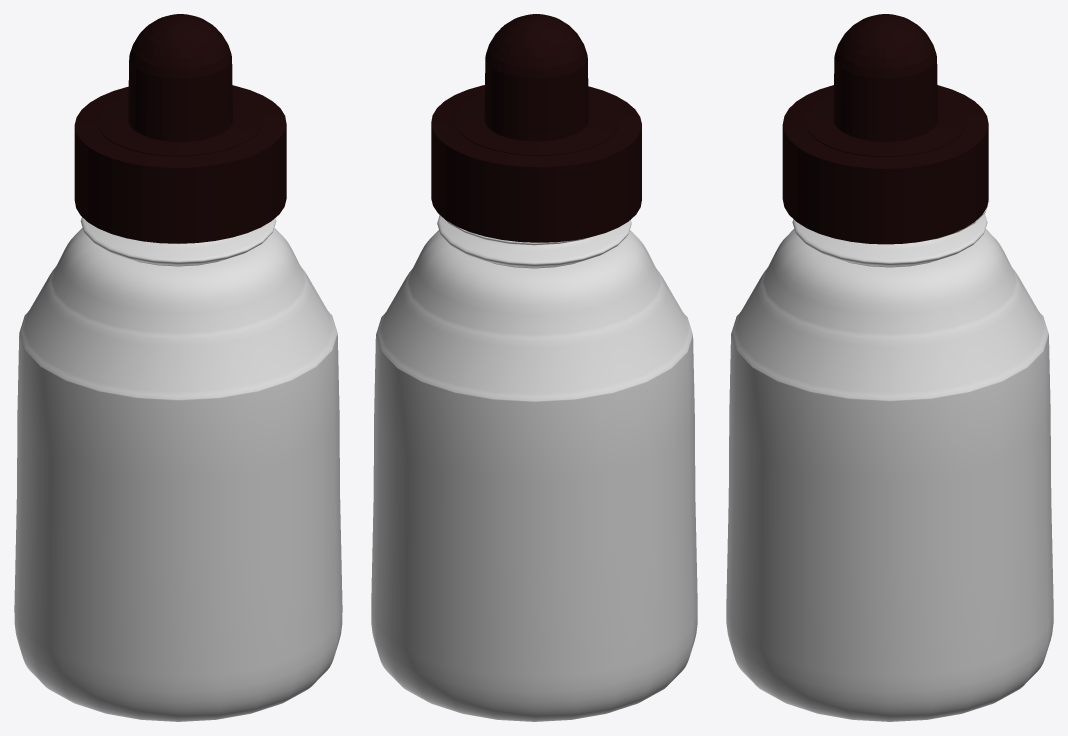
The model's file is cleaning solution.fbx.
3 renders of one model, left to right at view 1: azimuth 30°, elevation 25°; view 2: azimuth 150°, elevation 25°; view 3: azimuth 270°, elevation 25°, orthographic.
Visible parts, largest first — view 1: Lathe_NURBS, Capsule_1; view 2: Lathe_NURBS, Capsule_1; view 3: Lathe_NURBS, Capsule_1.
Boxes of the visible parts, x1,y1,x2,y2 form: Lathe_NURBS: [14, 217, 342, 721]; Capsule_1: [74, 14, 286, 243]; Lathe_NURBS: [371, 215, 697, 721]; Capsule_1: [431, 14, 641, 242]; Lathe_NURBS: [726, 200, 1053, 721]; Capsule_1: [782, 14, 988, 244].
Size of the model in its own units: 313 by 683 by 313.
